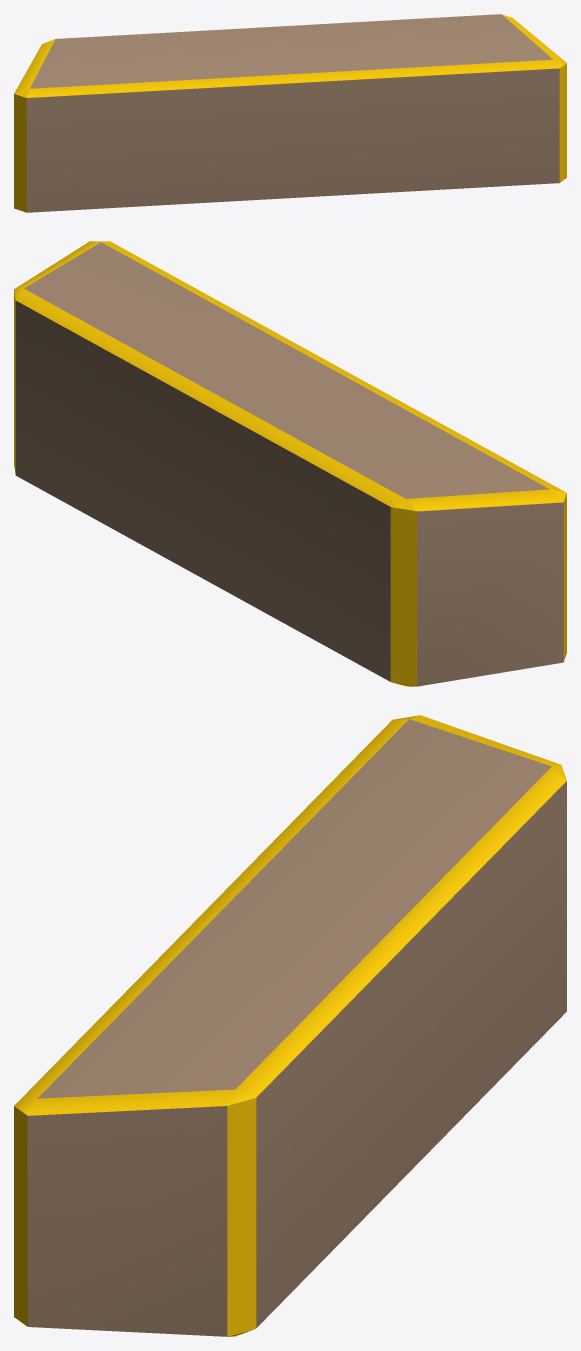
Rendered from OrangeL3.fbx.
3 views of the same model, one above another, from view 1: azimuth 30°, elevation 25°; view 2: azimuth 150°, elevation 25°; view 3: azimuth 270°, elevation 25° (orthographic). The views are drawn at different scales.
Parts seen in each view (by area): view 1: polySurface62; view 2: polySurface62; view 3: polySurface62.
Boxes of the visible parts, bbox=[...] form: polySurface62: bbox=[14, 14, 566, 212]; polySurface62: bbox=[14, 241, 566, 686]; polySurface62: bbox=[14, 715, 566, 1336].
Size of the model in its own units: 2.51 by 0.7213 by 1.46.
